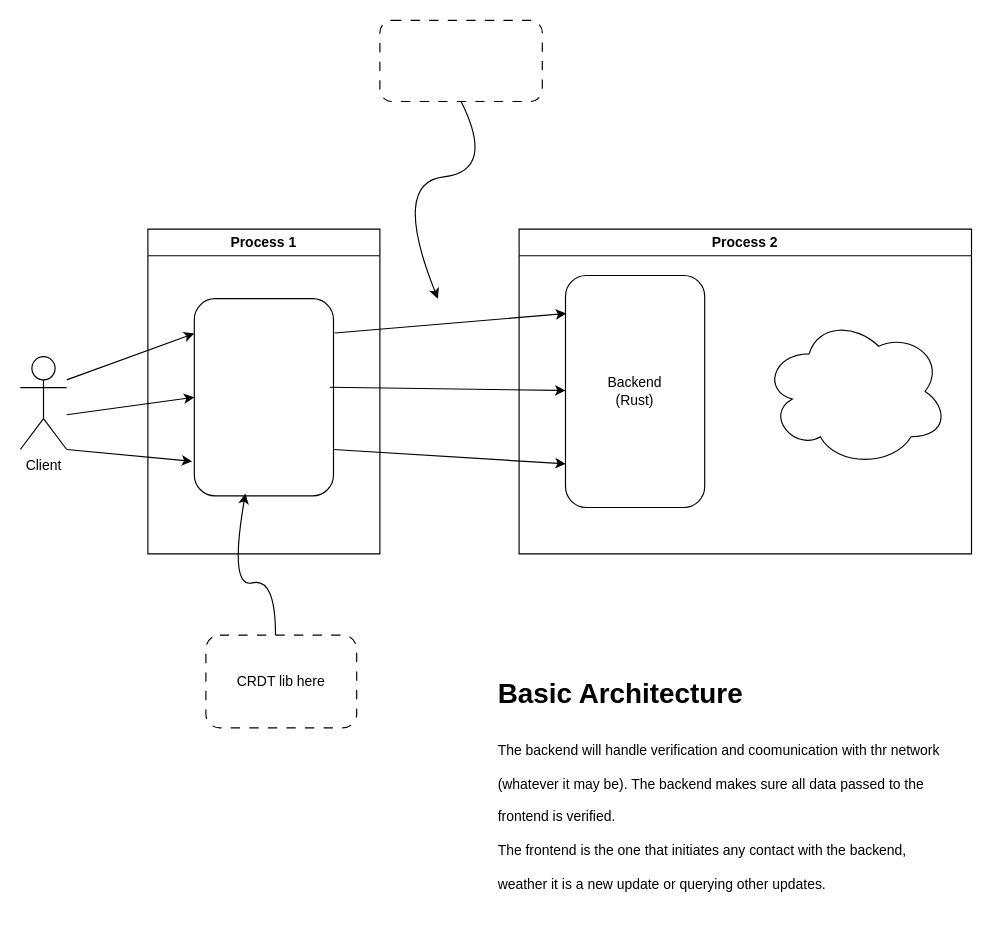
Some shapes in this 992 by 937 pixel diagram are drawn without their labels. The shapes that lost their labels are listed below. From the top down, each one's centre as x and y in pixels, then its label:
[460,60]: This communication is via sockets
[263,397]: Frontend (js)
[855,391]: Network (matrix or custom)
